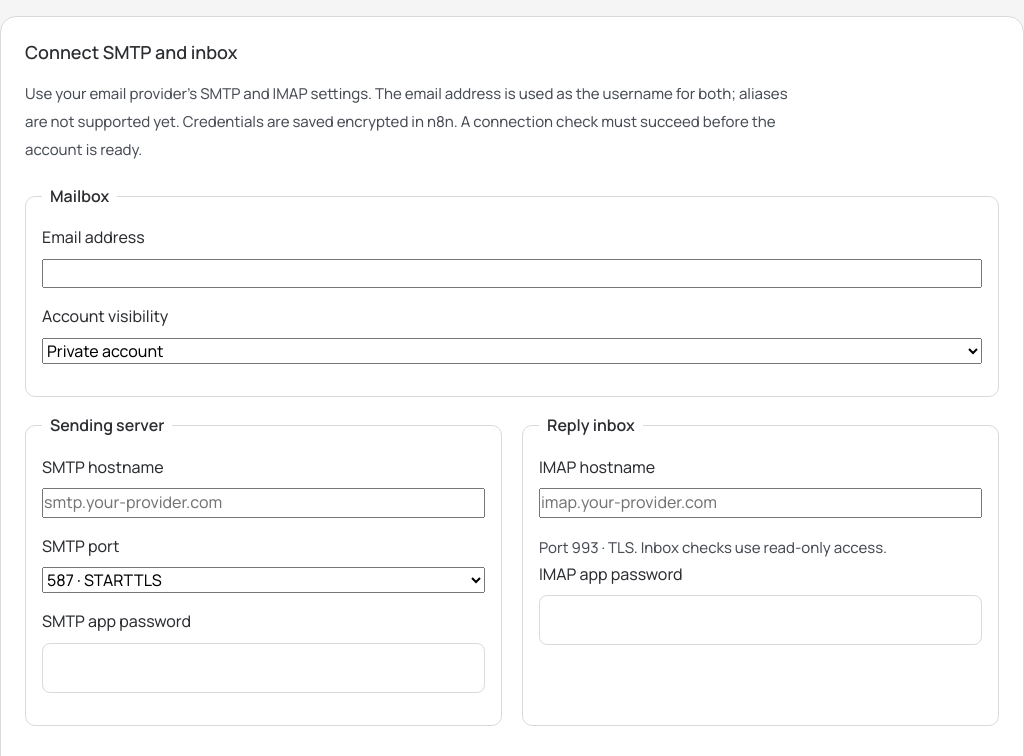
Test: uncertain saves keep a secret-free reconciliation lock instead of retrying
Type "fixture@example.org" into the field labelled "Email address" at coordinates (512, 274), box 42,259 -> 982,288
Type "smtp.example.org" into the field labelled "SMTP hostname" at coordinates (264, 503), box 42,488 -> 485,518
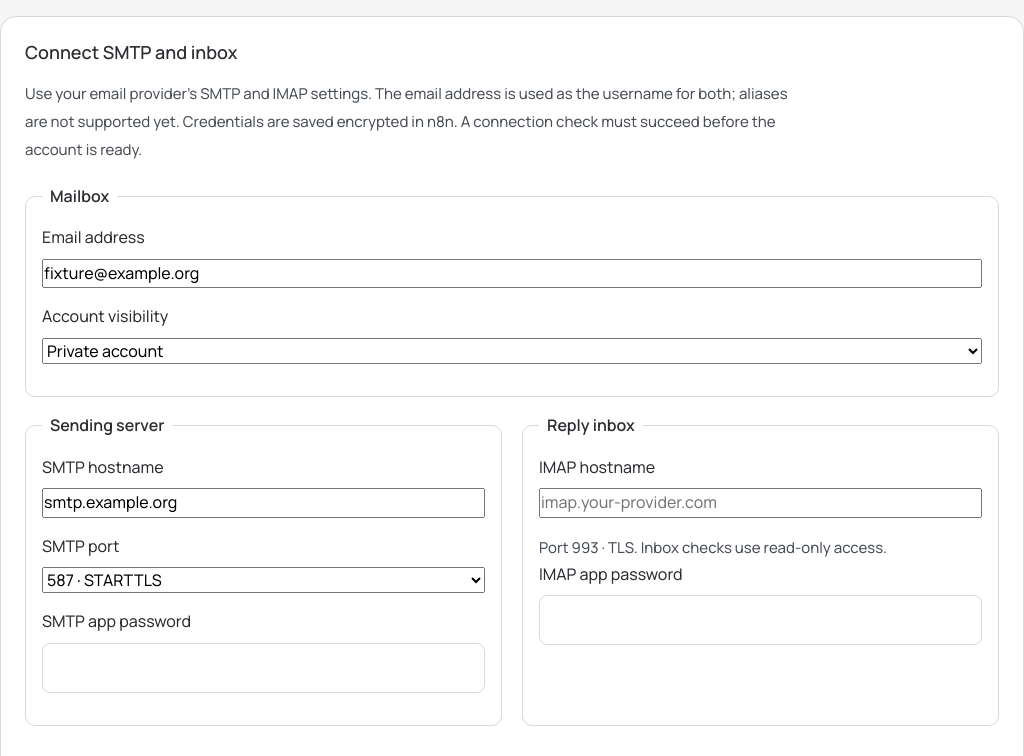
Type "SMTP_SECRET" into the password field labelled "SMTP app password" at coordinates (264, 668), box 42,643 -> 485,693
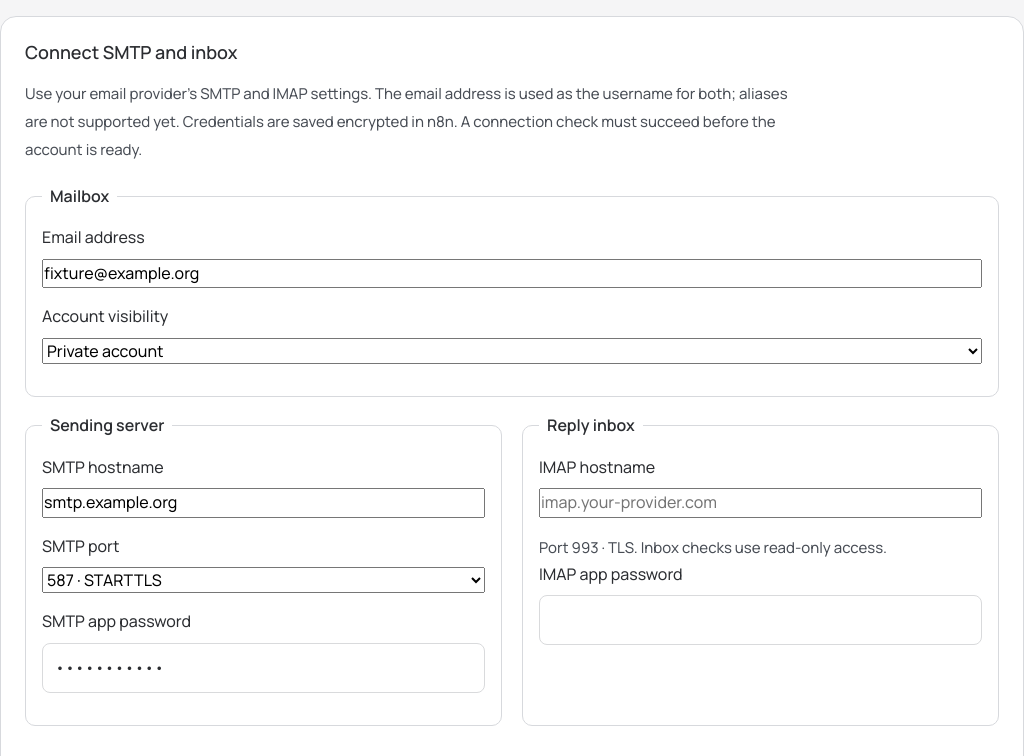
Type "imap.example.org" into the field labelled "IMAP hostname" at coordinates (760, 503), box 539,488 -> 982,518
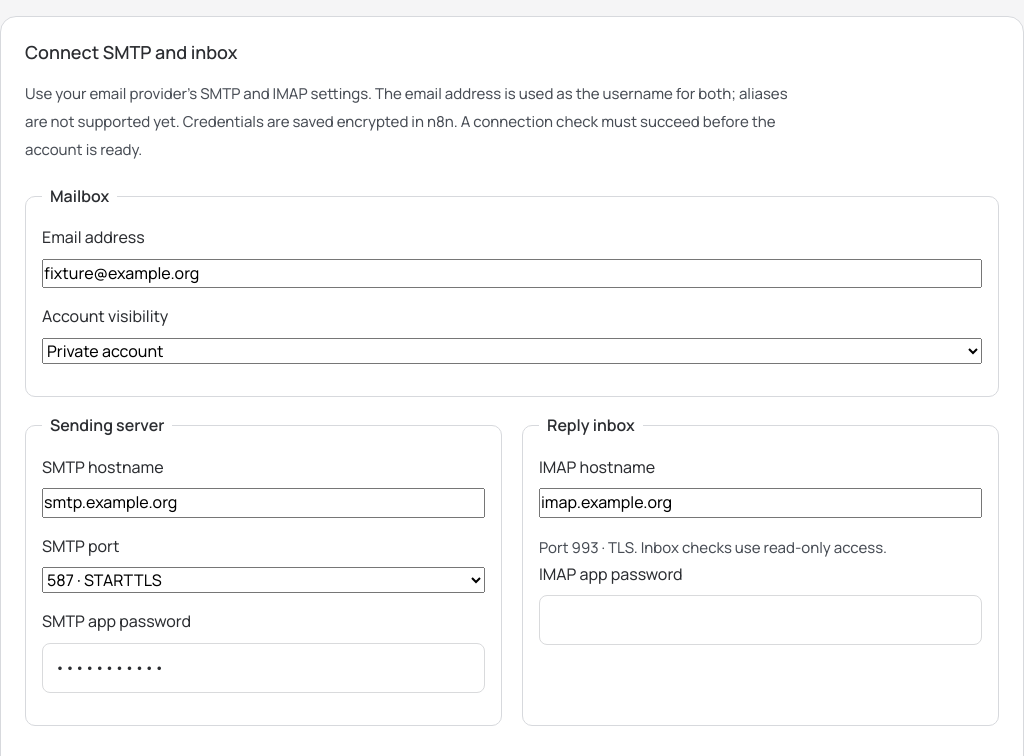
Type "IMAP_SECRET" into the password field labelled "IMAP app password" at coordinates (760, 620), box 539,595 -> 982,645
(page scrolled)
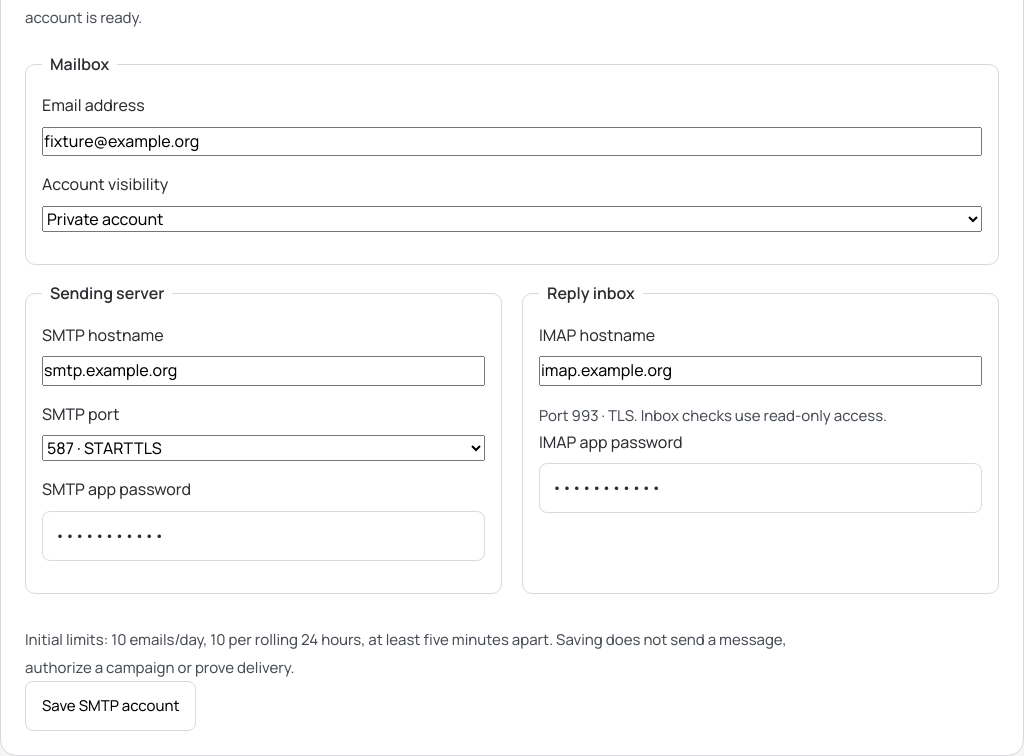
Submit the form
(page scrolled)
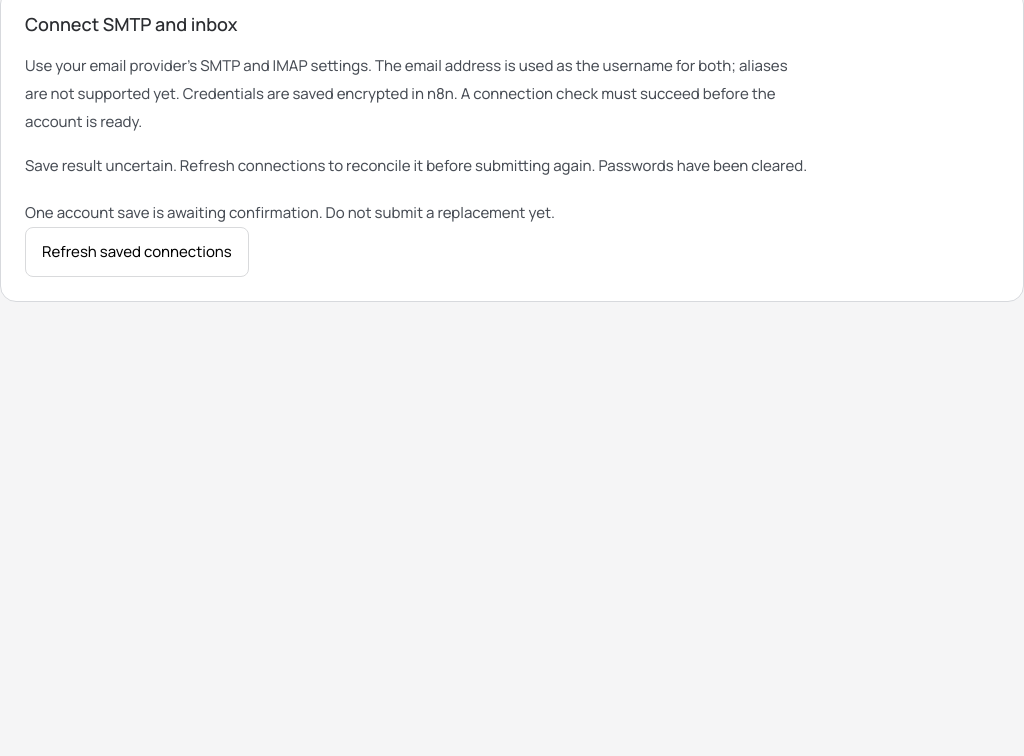
Expected: the form is gone
Expected: the text "Save result uncertain" is shown, 25,155 -> 807,176
Click the button "Refresh saved connections" at coordinates (137, 252), box 25,227 -> 249,277
(page scrolled)
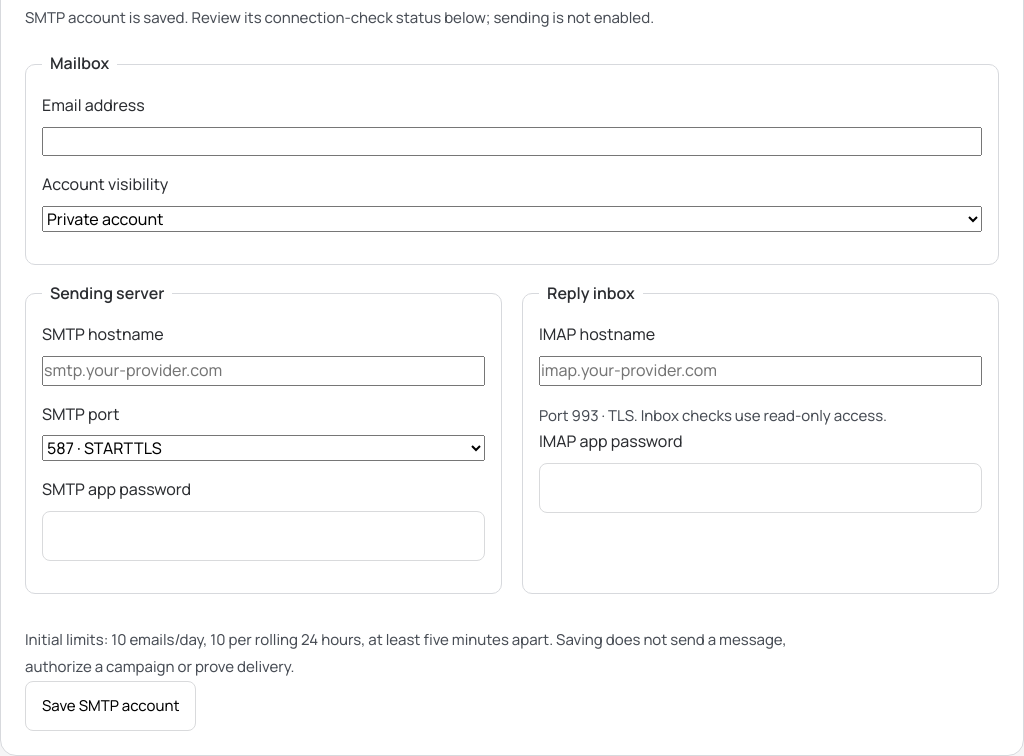
Expected: the form is shown
